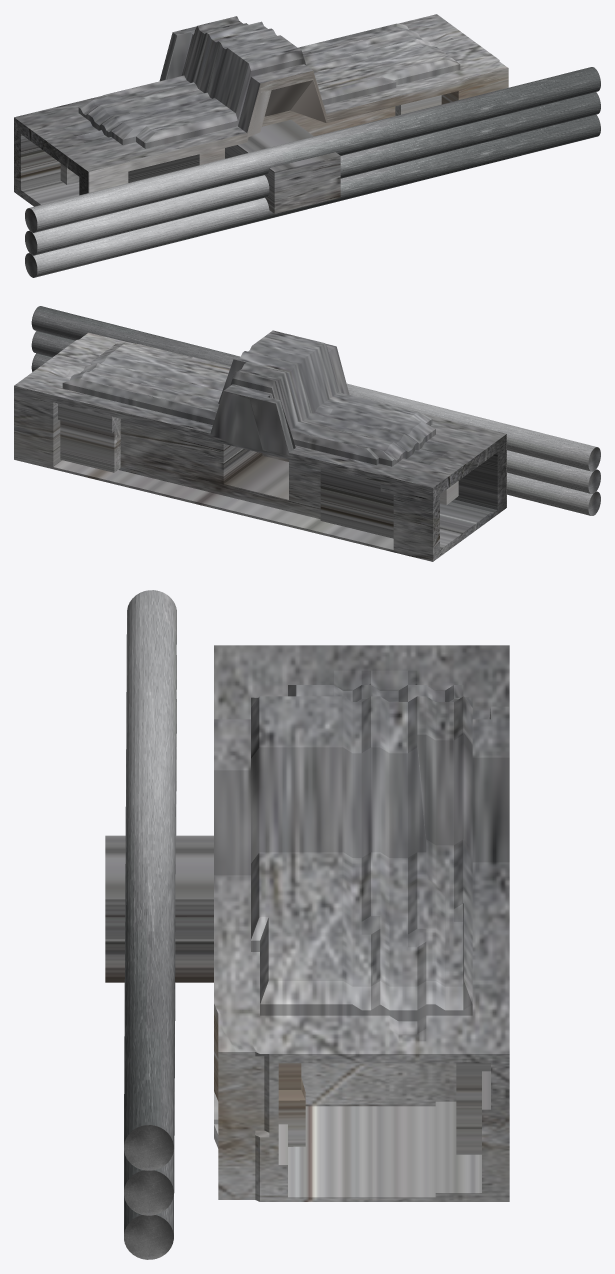
Rendered from pieza25.fbx.
The picture shows the model from 3 angles, top to bottom: view 1: azimuth 30°, elevation 25°; view 2: azimuth 150°, elevation 25°; view 3: azimuth 270°, elevation 25°; orthographic projection. The views are drawn at different scales.
Visible parts, largest first — view 1: Cube.002; view 2: Cube.002; view 3: Cube.002.
Boxes of the visible parts, x1,y1,x2,y2 form: Cube.002: (14, 14, 600, 277); Cube.002: (14, 306, 600, 561); Cube.002: (105, 590, 509, 1259).
Bounding box in the file's own units: 634 × 144 × 199.
4 materials, 4 textured.
